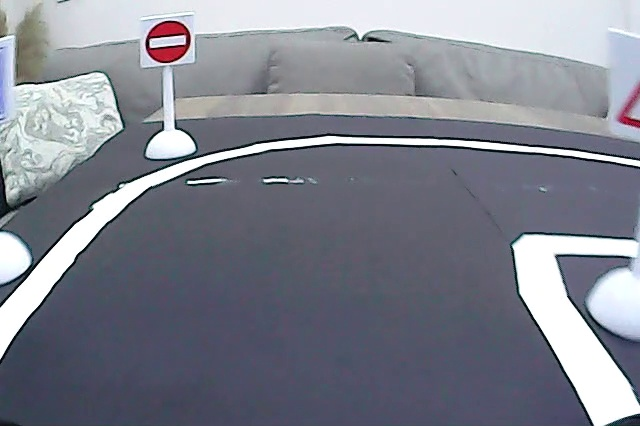do not enter: (143, 18, 193, 66)
